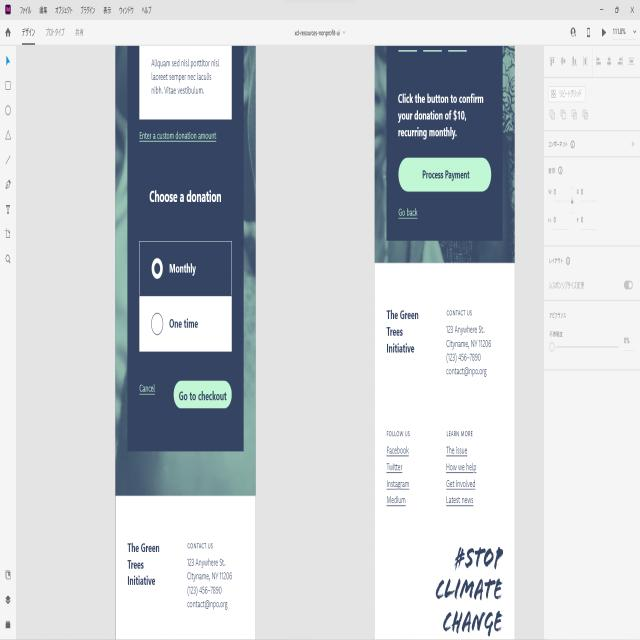radio: (150, 253, 163, 279)
